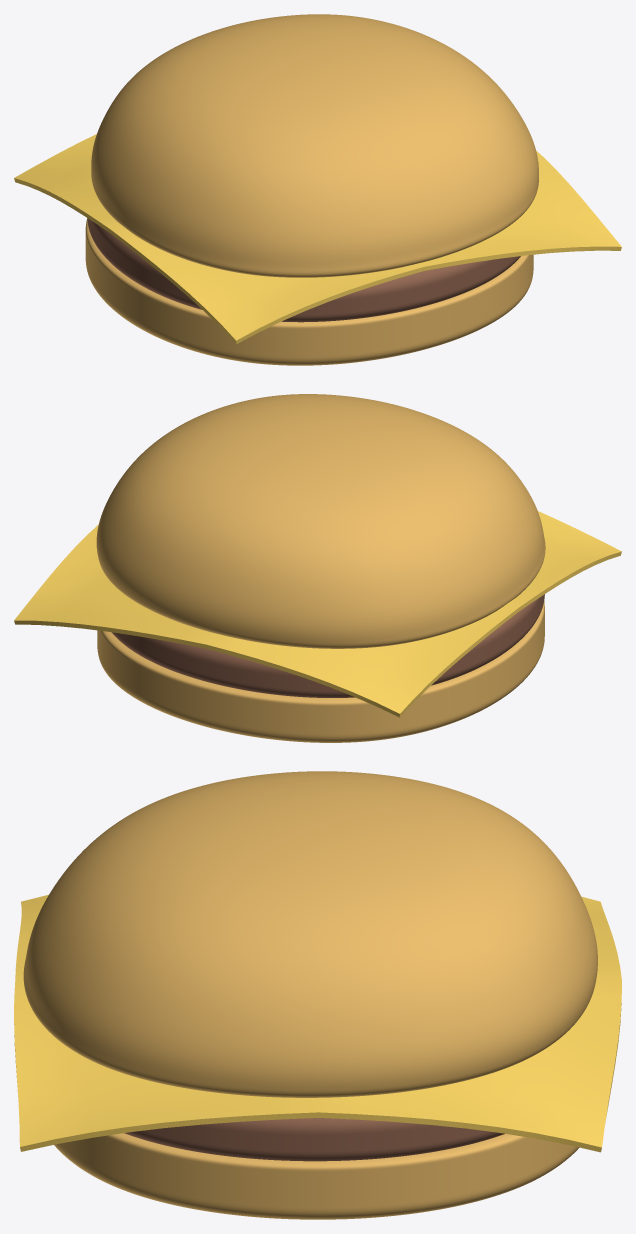
Rendered from hamburger.glb.
The picture shows the model from 3 angles, top to bottom: view 1: azimuth 30°, elevation 25°; view 2: azimuth 150°, elevation 25°; view 3: azimuth 270°, elevation 25°; orthographic projection. The views are drawn at different scales.
Parts seen in each view (by area): view 1: Object.002, Plane, Object, Object.001; view 2: Object.002, Plane, Object, Object.001; view 3: Object.002, Plane, Object, Object.001.
Part boxes in pixels (box(x1,y1,x2,y2)): Object.002: box(91, 14, 538, 277); Plane: box(14, 134, 621, 344); Object: box(85, 219, 533, 365); Object.001: box(87, 218, 520, 322); Object.002: box(96, 394, 545, 648); Plane: box(14, 511, 621, 717); Object: box(97, 601, 544, 742); Object.001: box(112, 594, 544, 697); Object.002: box(23, 771, 597, 1097); Plane: box(14, 894, 621, 1152); Object: box(54, 1133, 579, 1219); Object.001: box(124, 1118, 504, 1161).
Bounding box in the file's own units: 9.82 × 5.34 × 9.82.
